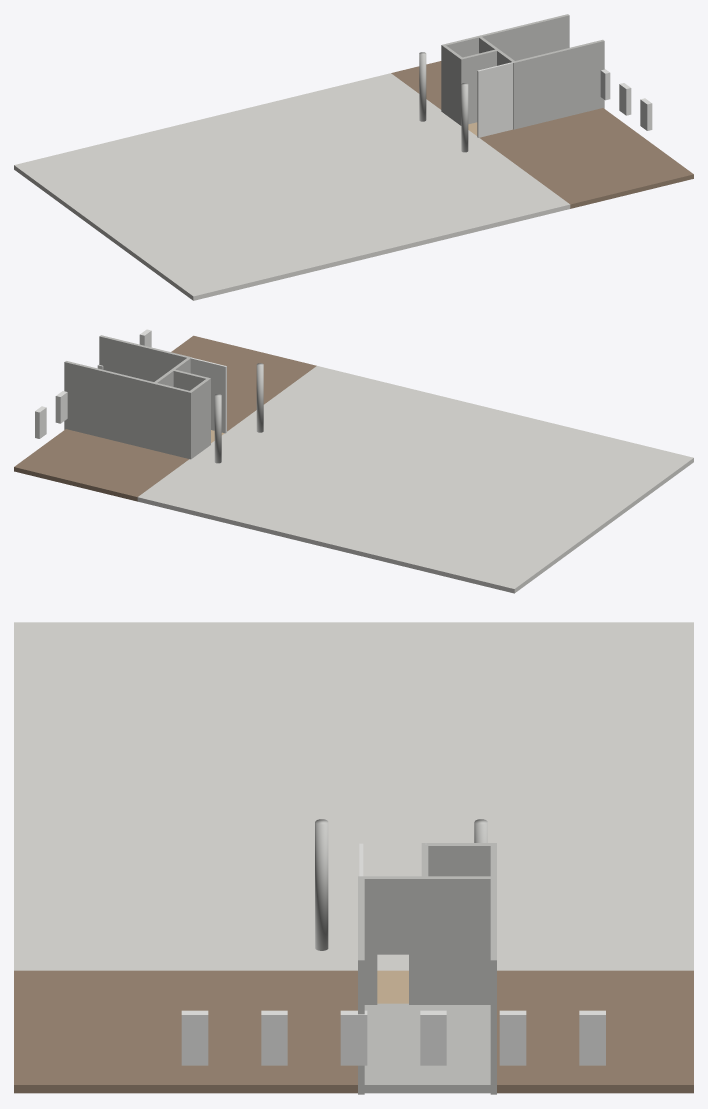
File: SM_Bygg_Helgasetr_P1_O_MN.fbx
The picture shows the model from 3 angles, top to bottom: view 1: azimuth 30°, elevation 25°; view 2: azimuth 150°, elevation 25°; view 3: azimuth 270°, elevation 25°; orthographic projection. The views are drawn at different scales.
Parts seen in each view (by area): view 1: SM_Bygg_Helgasetr_P1_O_MN; view 2: SM_Bygg_Helgasetr_P1_O_MN; view 3: SM_Bygg_Helgasetr_P1_O_MN.
Boxes of the visible parts, x1=… form: SM_Bygg_Helgasetr_P1_O_MN: x1=14, y1=14, x2=693, y2=300; SM_Bygg_Helgasetr_P1_O_MN: x1=14, y1=329, x2=693, y2=593; SM_Bygg_Helgasetr_P1_O_MN: x1=14, y1=622, x2=693, y2=1094.
Bounding box in the file's own units: 25.65 × 41.5 × 5.6.
